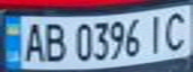0: (69, 19, 93, 63)
3: (90, 18, 112, 61)
6: (124, 16, 148, 58)
9: (106, 17, 127, 60)
A: (18, 19, 48, 63)
B: (39, 19, 69, 63)
C: (160, 8, 193, 53)
I: (142, 11, 169, 55)
